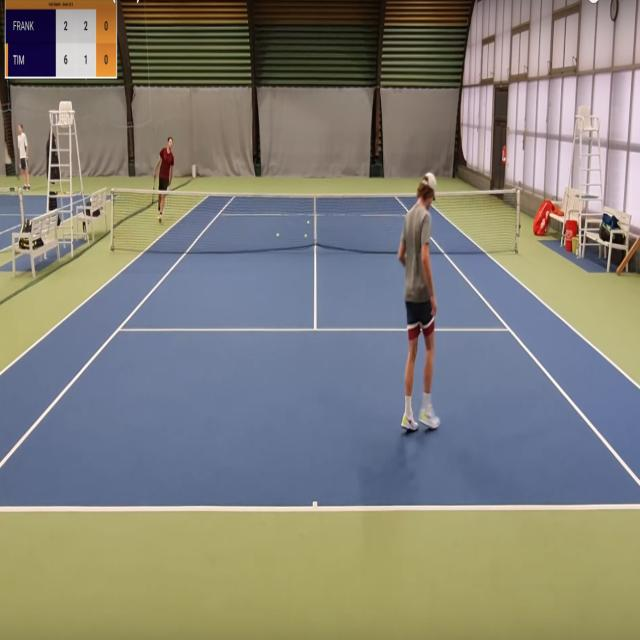ball: (276, 232, 280, 238), (306, 220, 310, 225), (304, 233, 307, 239)
